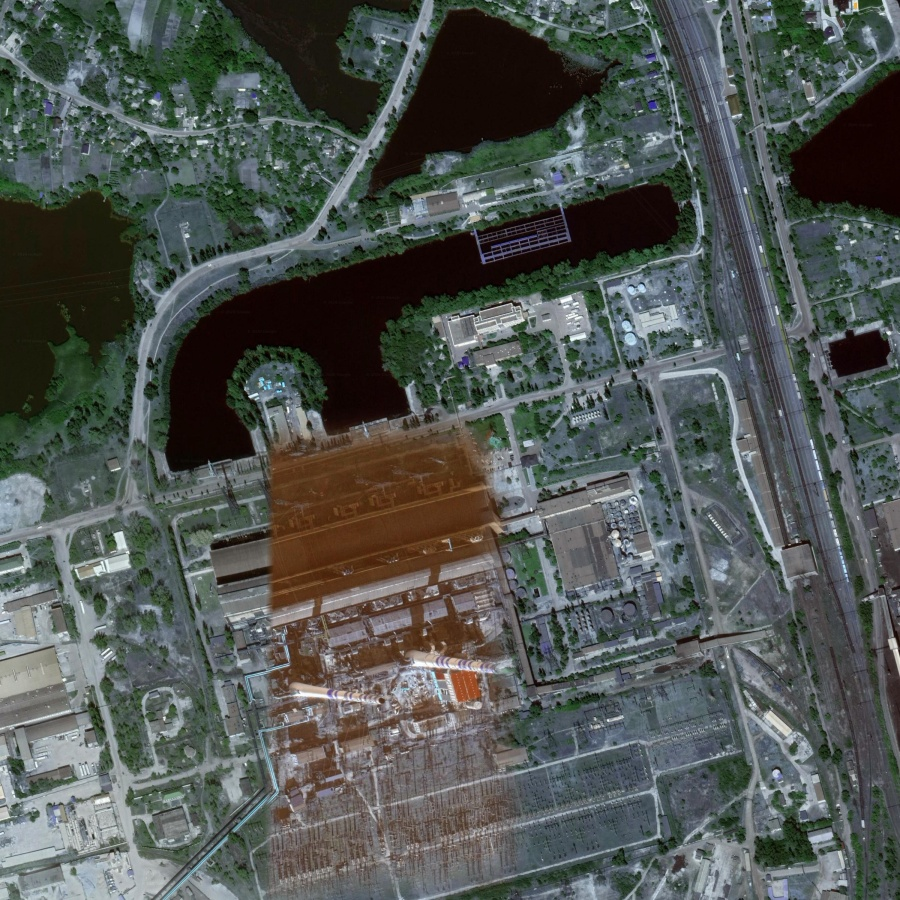PowerPlant: (234, 523, 574, 792)
